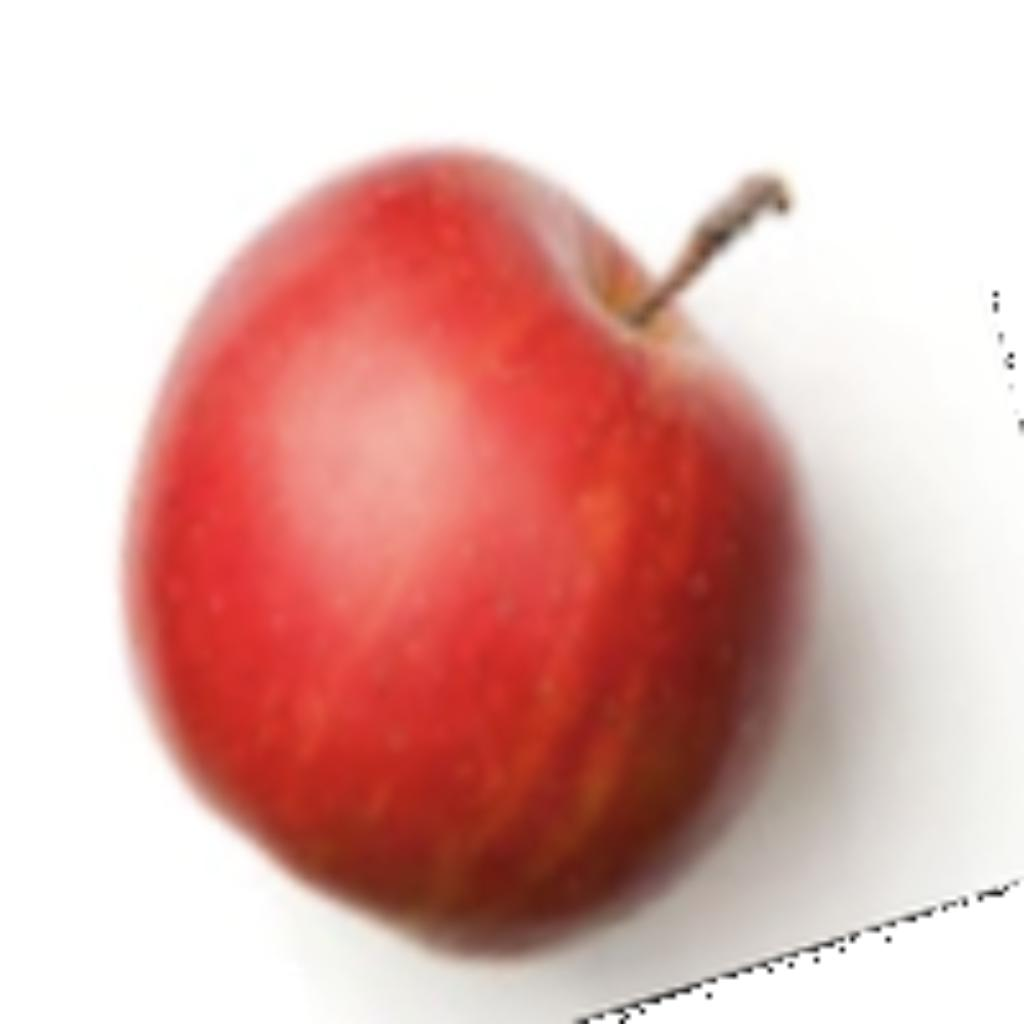apple: (108, 133, 988, 1019)
